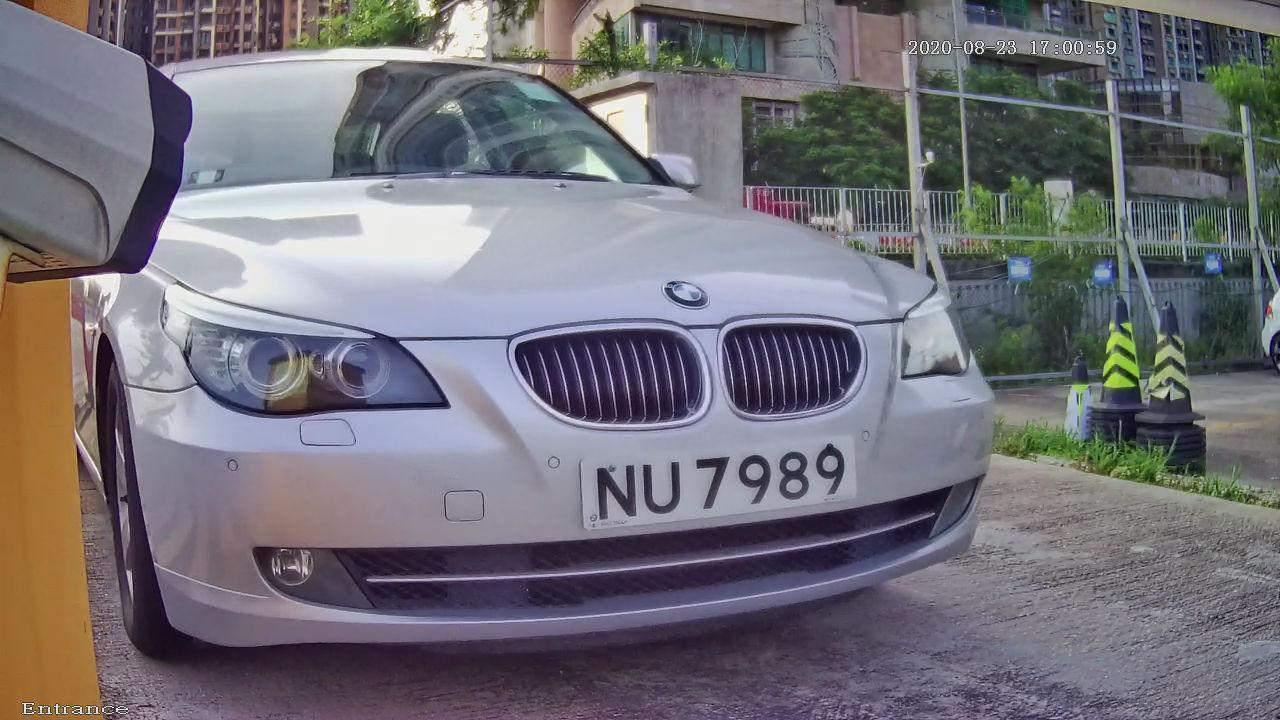Car: (1, 17, 1063, 695)
License Plate: (520, 387, 916, 580)
